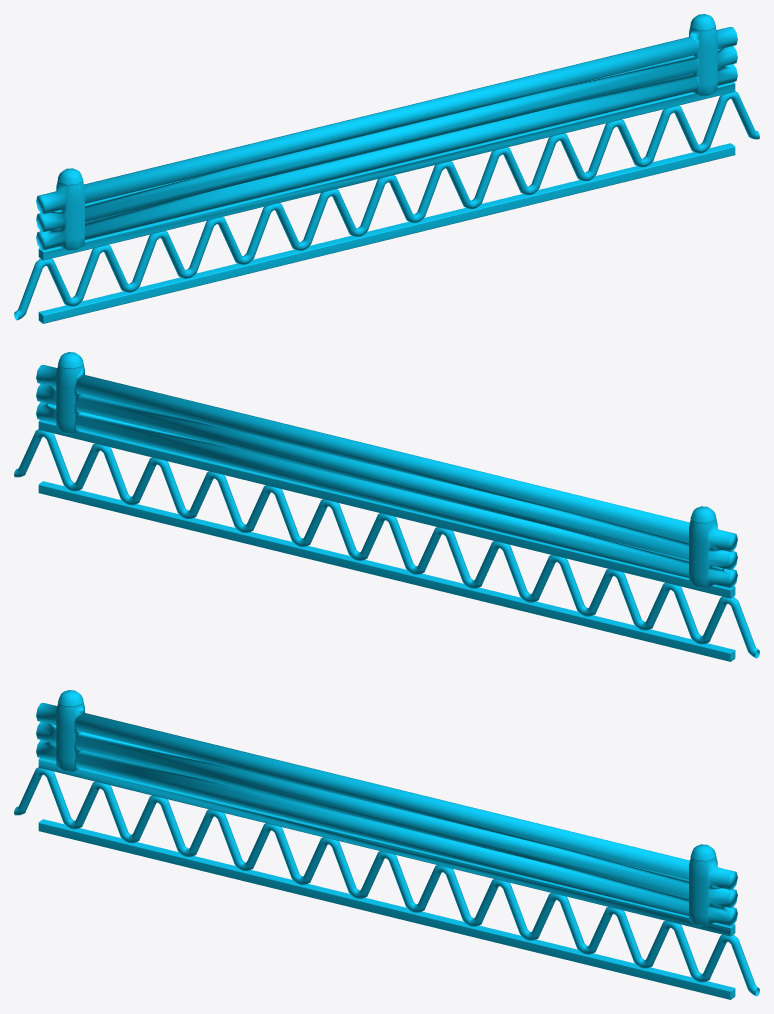
Rendered from GB_fence.fbx.
3 renders of one model, top to bottom at view 1: azimuth 30°, elevation 25°; view 2: azimuth 150°, elevation 25°; view 3: azimuth 330°, elevation 25°, orthographic.
Parts seen in each view (by area): view 1: fence; view 2: fence; view 3: fence.
Part boxes in pixels (x1=…): fence: x1=14, y1=14, x2=759, y2=323; fence: x1=14, y1=352, x2=759, y2=661; fence: x1=14, y1=690, x2=759, y2=999.
Size of the model in its own units: 857 by 160 by 30.
